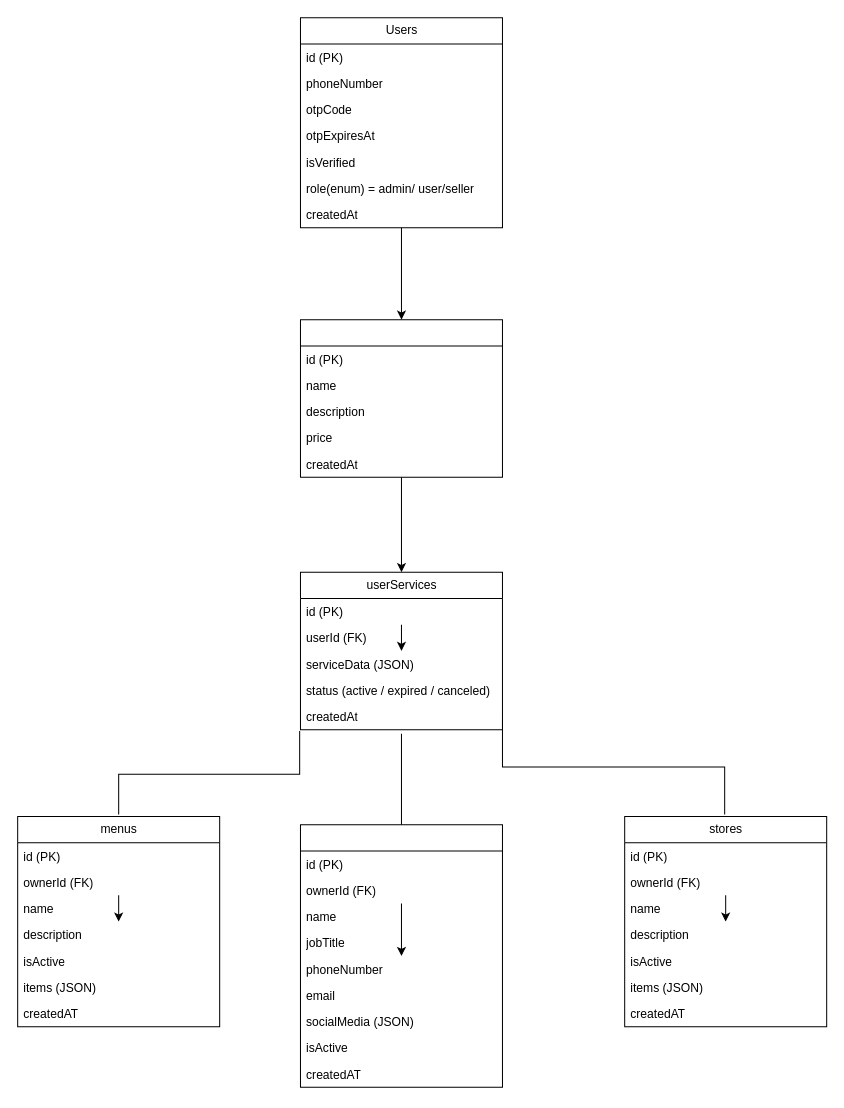
The diagram is 844 pixels wide and 1108 high, and some of its shapes have lost their labels. The shapes that lost their labels are listed below. From the top down, each one's box as (x1, y1, x2, y2) in pixels, then its label:
(299, 319, 502, 477): Services
(299, 824, 502, 1087): buisinessCard
